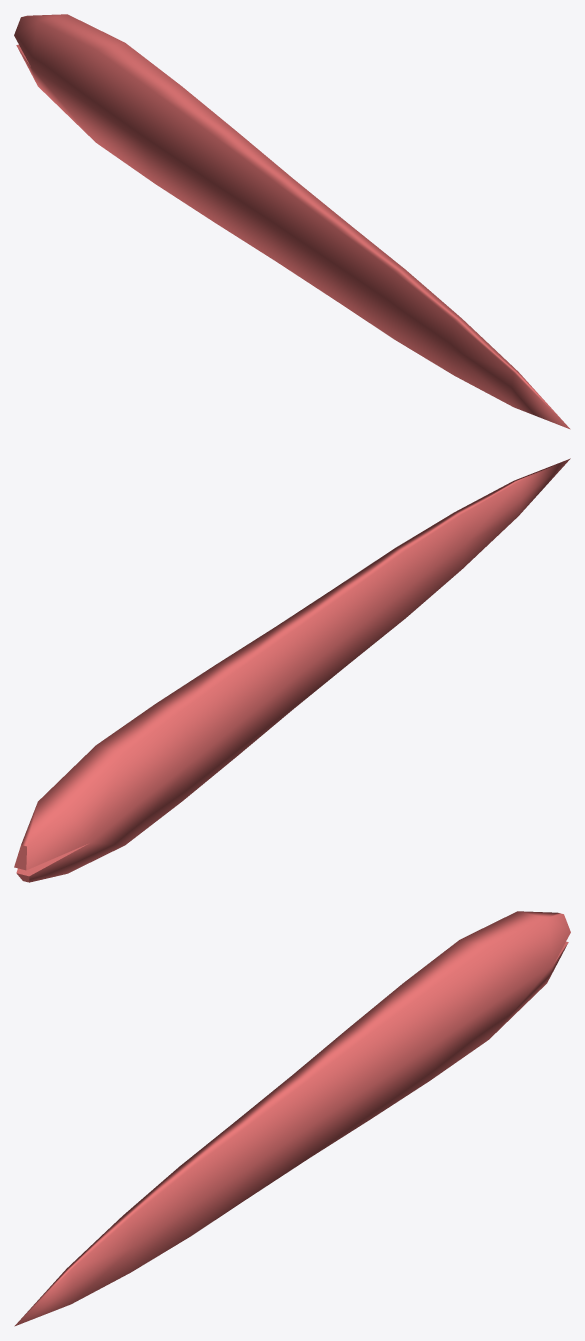
File: cre_eel01.fbx
3 renders of one model, top to bottom at view 1: azimuth 30°, elevation 25°; view 2: azimuth 150°, elevation 25°; view 3: azimuth 330°, elevation 25°, orthographic.
Parts seen in each view (by area): view 1: cre_eel01; view 2: cre_eel01; view 3: cre_eel01.
Part boxes in pixels (x1,y1,x2,y2): cre_eel01: [14, 14, 570, 429]; cre_eel01: [14, 458, 570, 882]; cre_eel01: [14, 911, 570, 1326].
Bounding box in the file's own units: 3.66 × 5.47 × 58.84.
